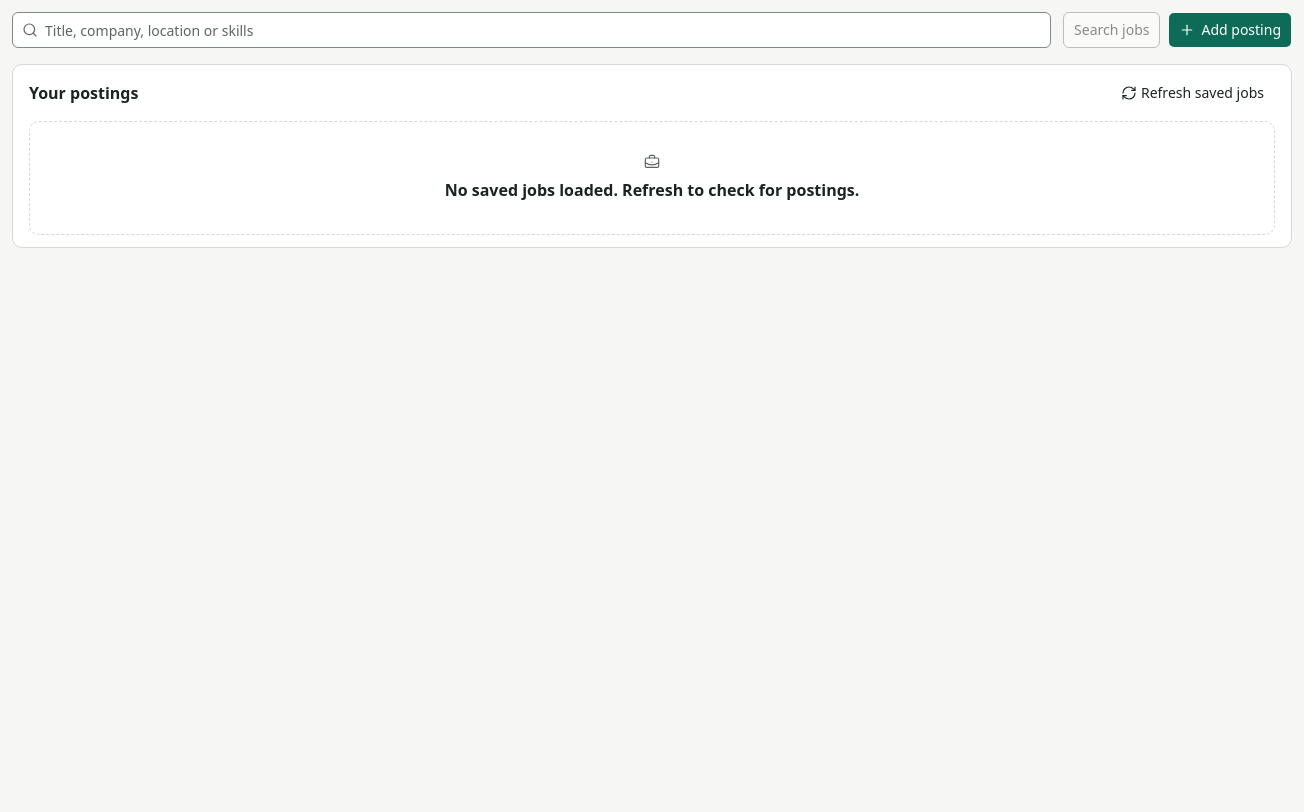
job text and editor edge cases › shows the posting text as plain text, never as markup
This screenshot has width=1304, height=812.
Click the button with test id "refreshJobsButton" at (1192, 93), box [1110,77,1275,109]
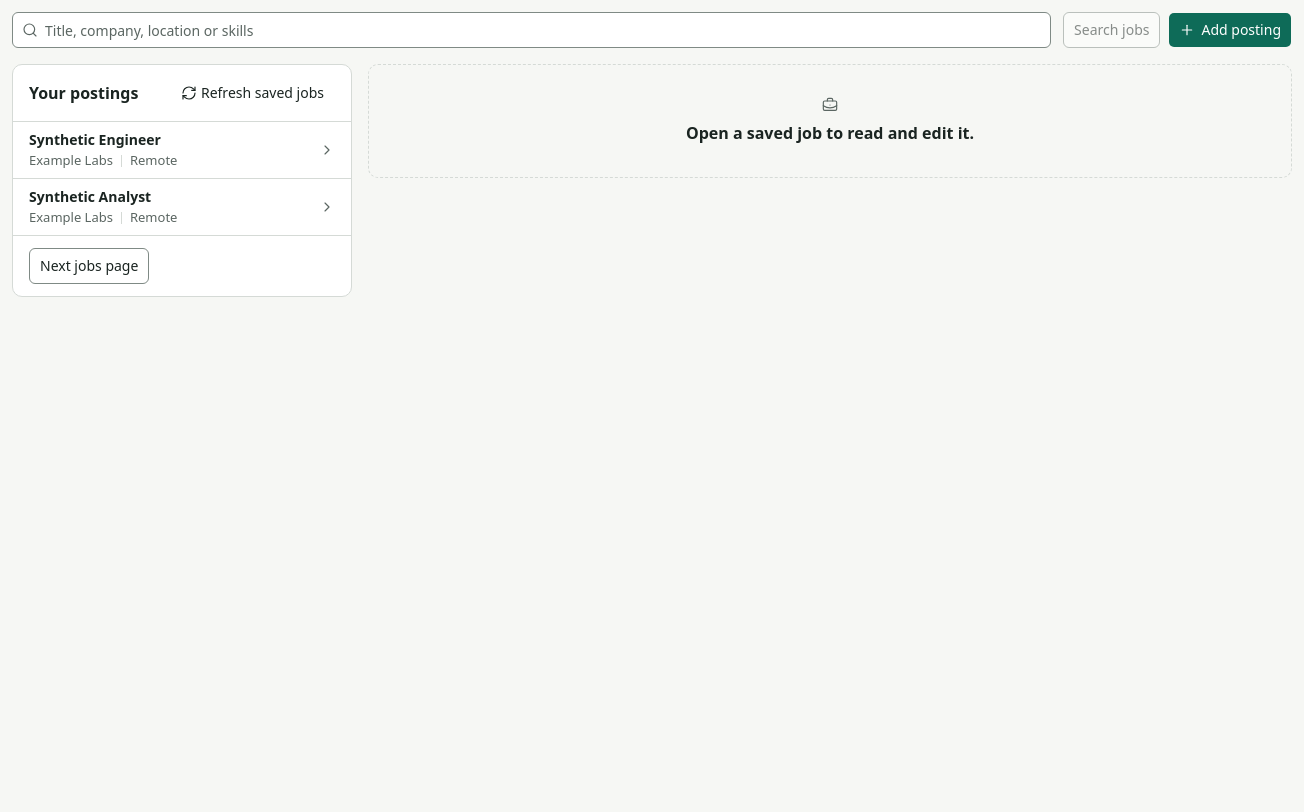
Check: the heading "Synthetic Engineer" is shown, box [29,130,161,149]
Click the button with aria-label "Open saved job Synthetic Engineer" at (95, 140), box [13,122,351,178]
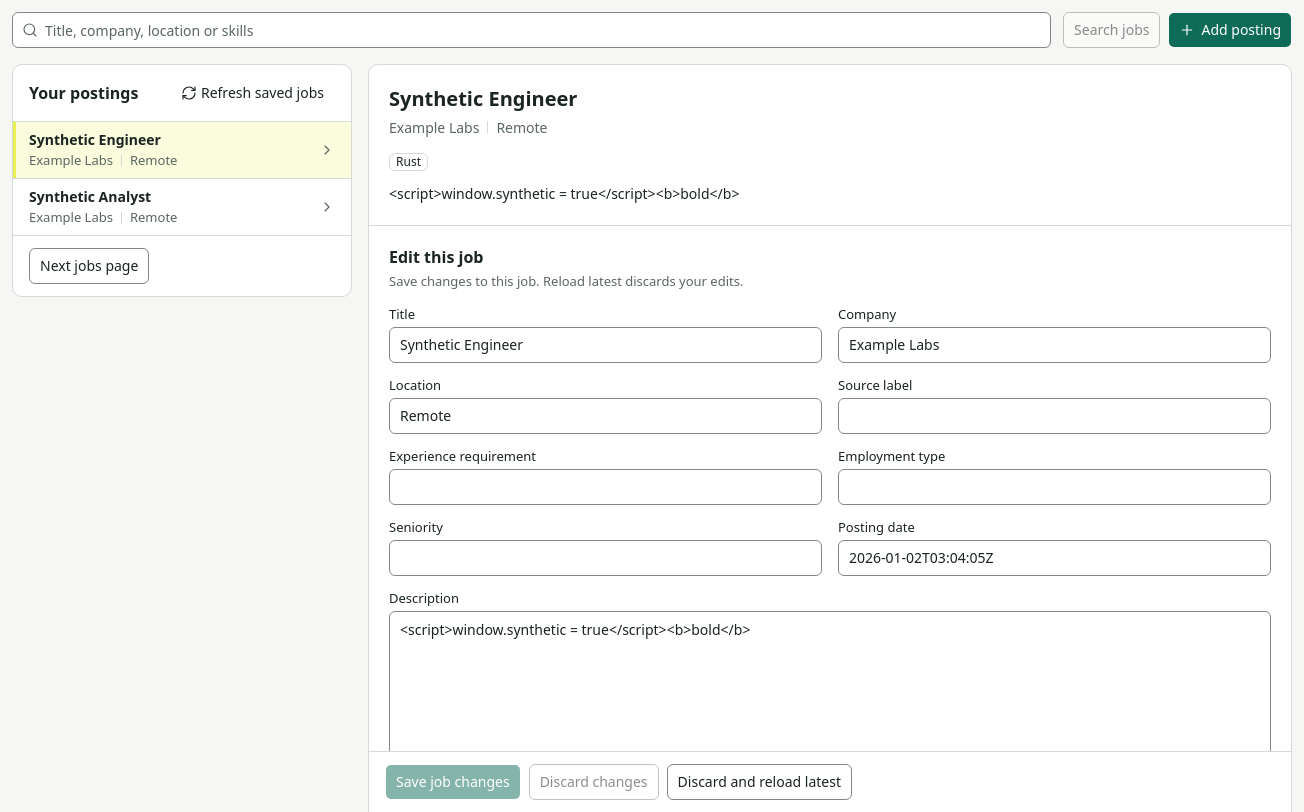
Check: the element with test id "jobDescriptionLabel" reads "<script>window.synthetic = true</script><b>bold</b>", box [389,184,739,202]
